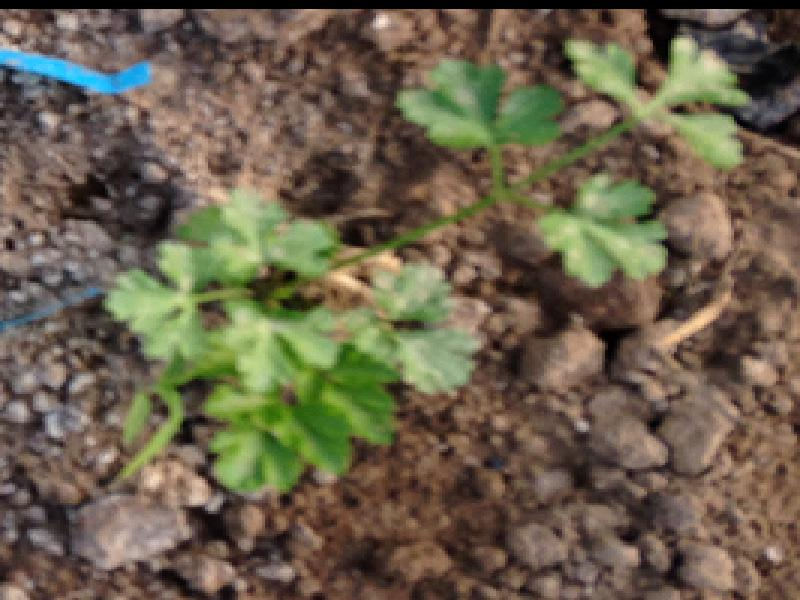radish: (34, 51, 656, 530)
